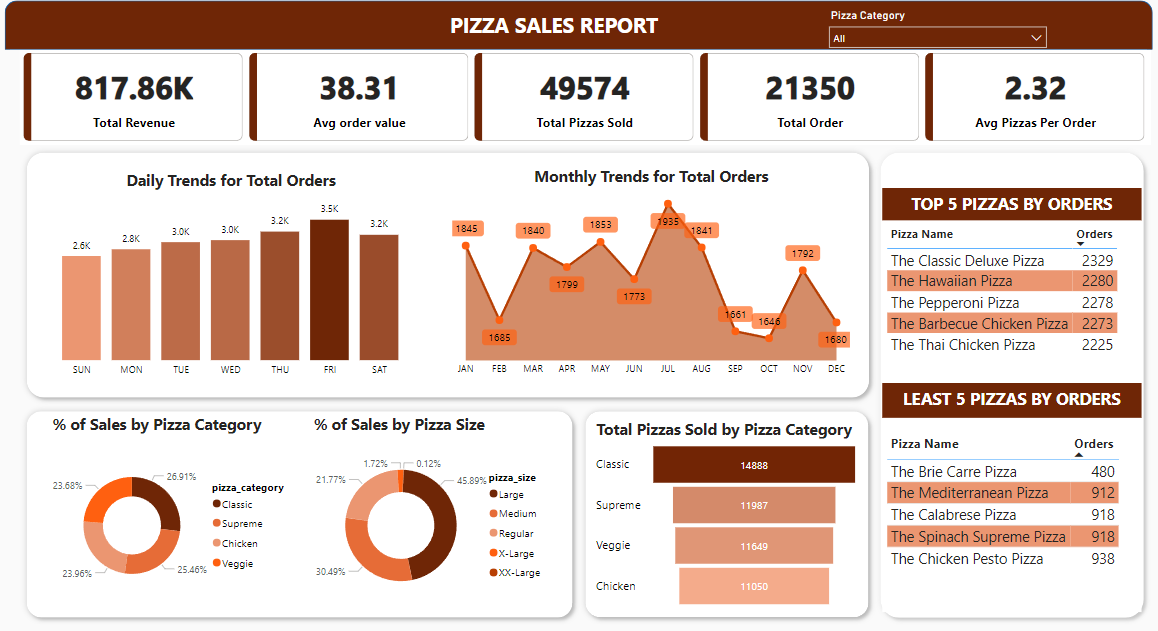

This screenshot's page, from the dashboard's own definition file:
{"tool":"powerbi","page":{"name":"Page 1","canvas":[1500,820],"ordinal":0},"visuals":[{"type":"cardVisual","fields":{"Data":["pizza_sales.Total Revenue","pizza_sales.Avg order value","pizza_sales.Total Pizzas Sold","pizza_sales.Total Order","pizza_sales.Avg Pizzas Per Order"]},"box":[30,66.7,1455,123.3],"z":0},{"type":"shape","box":[11.7,3.3,1476.7,63.3],"z":1},{"type":"shape","box":[30,190,1101.7,333.3],"z":2},{"type":"columnChart","title":"Daily Trends for Total Orders","fields":{"Category":["pizza_sales.Order Day"],"Y":["pizza_sales.Total Order"]},"box":[55,215,495,280],"z":3},{"type":"areaChart","title":"Monthly Trends for Total Orders","fields":{"Category":["pizza_sales.Order Month"],"Y":["pizza_sales.Total Order"]},"box":[581.7,215,521.7,280],"z":4},{"type":"shape","box":[30,523.3,720,283.3],"z":5},{"type":"donutChart","title":"% of Sales by Pizza Category","fields":{"Category":["pizza_sales.pizza_category"],"Y":["pizza_sales.Total Revenue"]},"box":[68.3,533.3,315,263.3],"z":6},{"type":"donutChart","title":"% of Sales by Pizza Size","fields":{"Y":["pizza_sales.Total Revenue"],"Category":["pizza_sales.pizza_size"]},"box":[403.3,533.3,315,263.3],"z":7},{"type":"shape","box":[750,523,382,283],"z":8},{"type":"funnel","title":"Total Pizzas Sold by Pizza Category","fields":{"Category":["pizza_sales.pizza_category"],"Y":["pizza_sales.Total Pizzas Sold"]},"box":[766.7,540,348.3,250],"z":9},{"type":"shape","box":[1128.3,190,356.7,616.7],"z":10},{"type":"textbox","box":[516.7,11.7,403.3,46.7],"z":11},{"type":"textbox","box":[1140,245,333.3,41.7],"z":12},{"type":"tableEx","fields":{"Values":["pizza_sales.pizza_name","Count(pizza_sales.order_id)"]},"box":[1140,286.7,333.3,198.3],"z":13},{"type":"textbox","box":[1140,495,333.3,45],"z":14},{"type":"tableEx","fields":{"Values":["pizza_sales.pizza_name","Count(pizza_sales.order_id)"]},"box":[1140,555,333.3,235],"z":15},{"type":"slicer","fields":{"Values":["pizza_sales.pizza_category"]},"box":[1061.7,8.3,300,56.7],"z":16}]}

Visuals, with their boxes in screenshot pixels (x1, y1, x2, y2), scaled from the page's 1500x820 canvas onto the 1158x631 screenshot:
cardVisual - pizza_sales.Total Revenue x pizza_sales.Avg order value: 23 51 1146 146
shape: 9 3 1149 51
shape: 23 146 874 403
"Daily Trends for Total Orders" columnChart: 42 165 425 381
"Monthly Trends for Total Orders" areaChart: 449 165 852 381
shape: 23 403 579 621
"% of Sales by Pizza Category" donutChart: 53 410 296 613
"% of Sales by Pizza Size" donutChart: 311 410 555 613
shape: 579 402 874 620
"Total Pizzas Sold by Pizza Category" funnel: 592 416 861 608
shape: 871 146 1146 621
textbox: 399 9 710 45
textbox: 880 189 1137 221
tableEx - pizza_sales.pizza_name x Count(pizza_sales.order_id): 880 221 1137 373
textbox: 880 381 1137 416
tableEx - pizza_sales.pizza_name x Count(pizza_sales.order_id): 880 427 1137 608
slicer - pizza_sales.pizza_category: 820 6 1051 50
